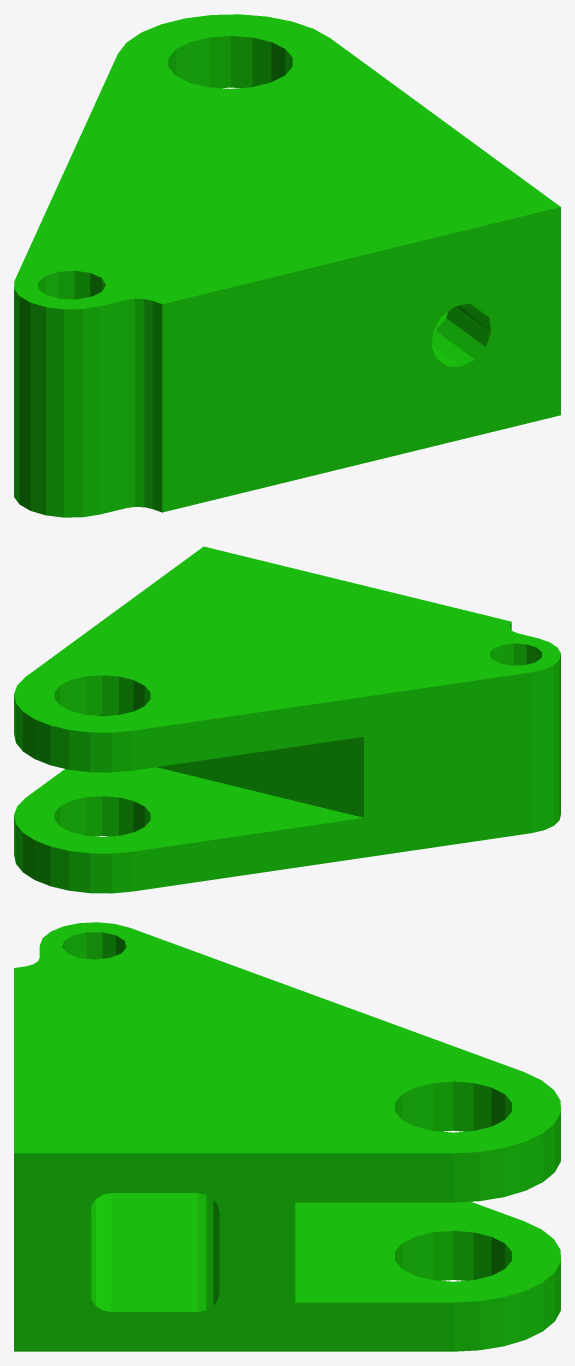
3 views of the same model, one above another, from view 1: azimuth 30°, elevation 25°; view 2: azimuth 150°, elevation 25°; view 3: azimuth 270°, elevation 25° (orthographic). The views are drawn at different scales.
Visible parts, largest first — view 1: punta; view 2: punta; view 3: punta.
Part boxes in pixels (box(x1,y1,x2,y2)): punta: box(14, 14, 560, 517); punta: box(14, 546, 560, 893); punta: box(14, 922, 560, 1351).
Bounding box in the file's own units: 0.05 × 0.05 × 0.02.
